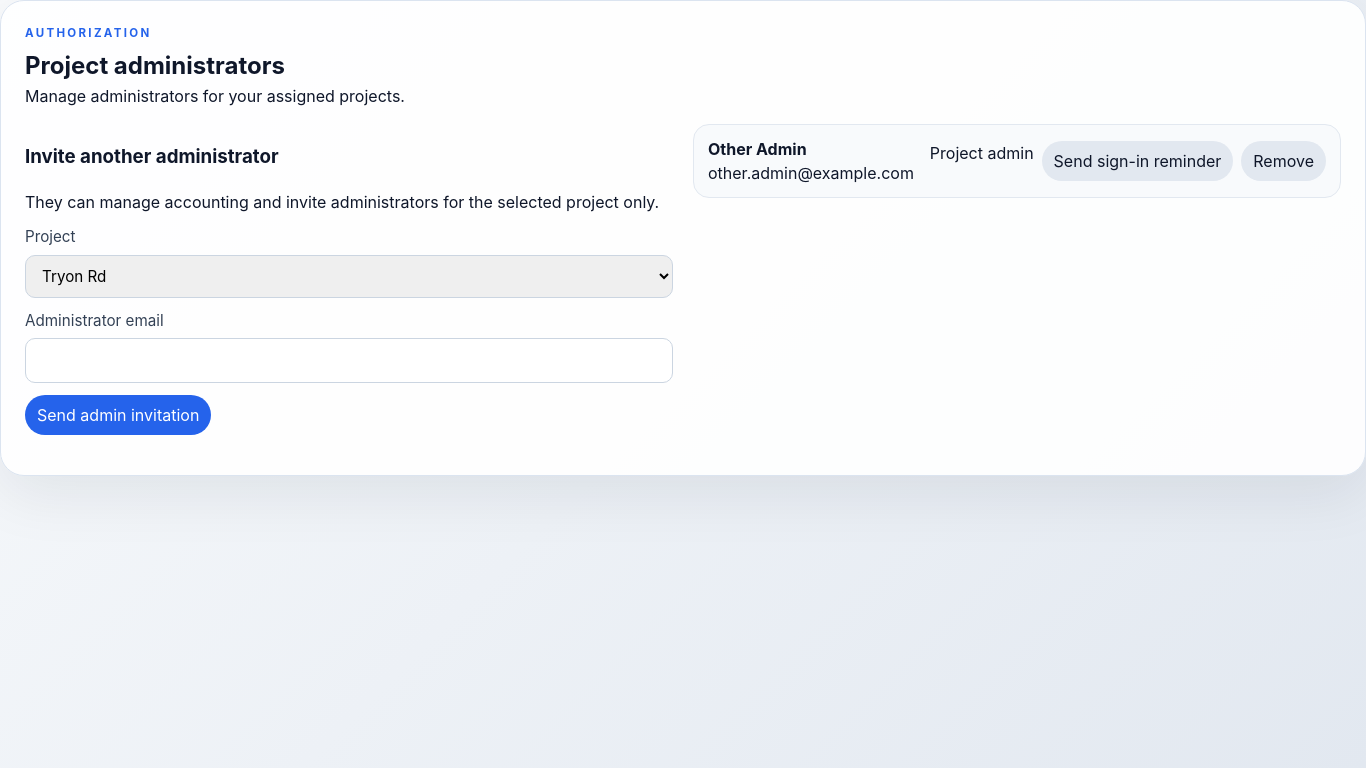
Test: AccessAdmin › sends an active administrator a sign-in reminder without changing access
Click the button "Send sign-in reminder" at [1137, 161], box [1042,141,1233,181]
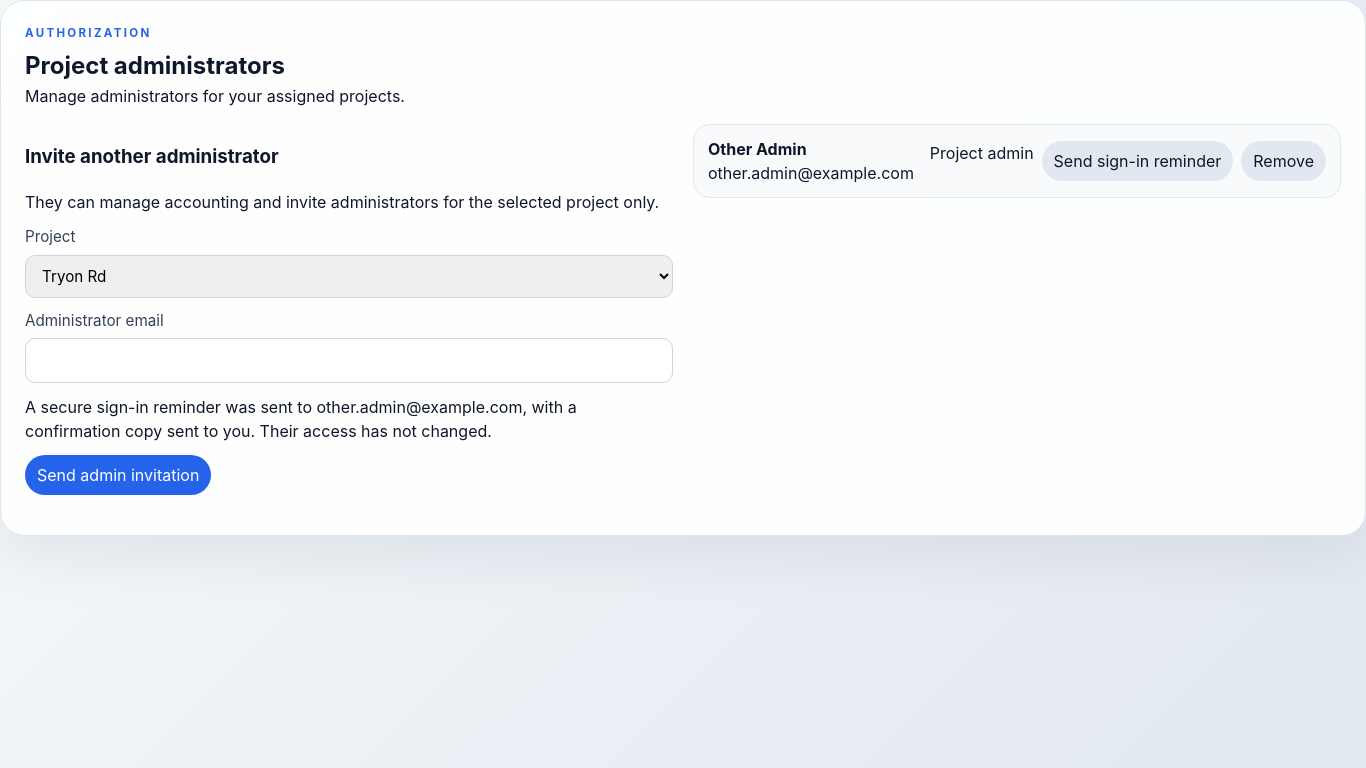
Check: the message shows "access has not changed", box [25,397,577,441]
